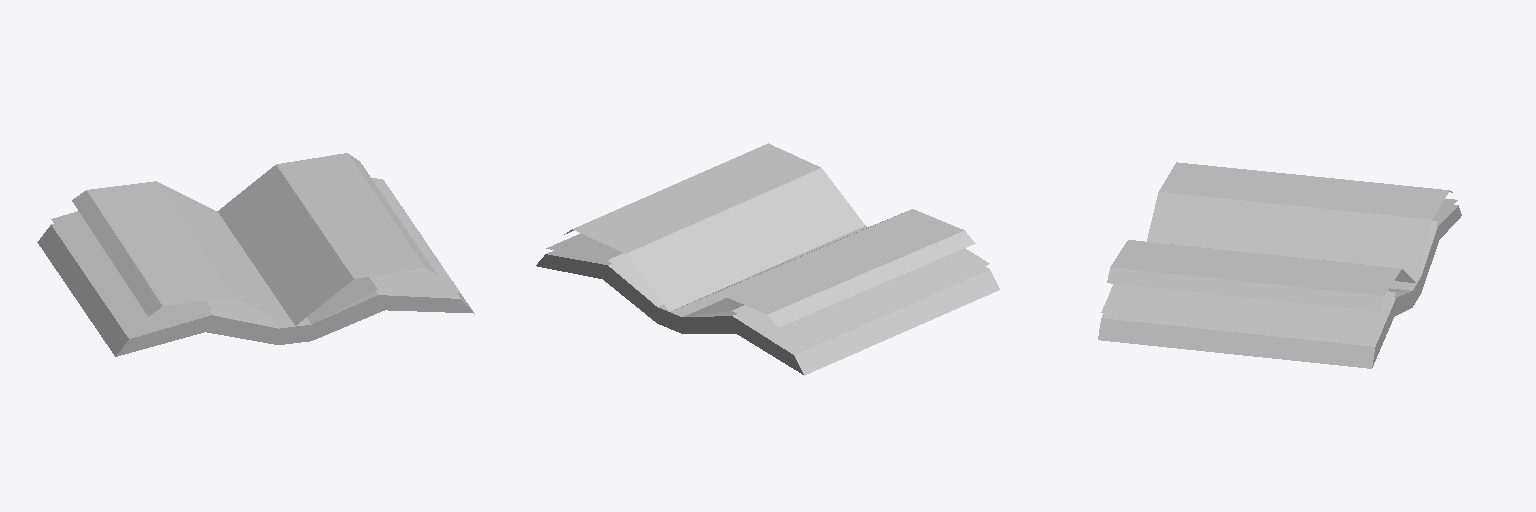
The model's file is openBook.obj.
3 views of the same model, side by side, from view 1: azimuth 30°, elevation 25°; view 2: azimuth 150°, elevation 25°; view 3: azimuth 270°, elevation 25° (orthographic).
Parts seen in each view (by area): view 1: open_book3 Hall; view 2: open_book3 Hall; view 3: open_book3 Hall.
Boxes of the visible parts, x1=… form: open_book3 Hall: x1=37, y1=153, x2=474, y2=356; open_book3 Hall: x1=536, y1=143, x2=999, y2=375; open_book3 Hall: x1=1098, y1=162, x2=1461, y2=368.
Size of the model in its own units: 3.35 by 0.5128 by 2.83.